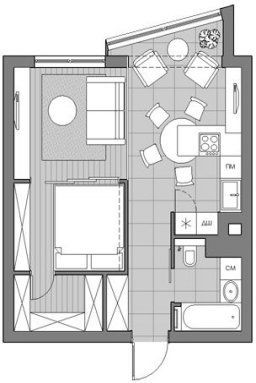door: (130, 341, 169, 382), (32, 274, 55, 302), (175, 186, 199, 212)
room: (133, 42, 232, 211), (14, 67, 129, 177), (15, 181, 123, 268), (14, 274, 126, 329), (178, 240, 240, 329)
wall: (1, 54, 19, 344), (240, 54, 256, 345), (5, 328, 134, 346), (169, 327, 256, 343), (220, 5, 236, 67), (122, 178, 130, 276), (55, 269, 130, 277), (3, 53, 35, 68), (100, 274, 108, 330), (175, 233, 222, 242), (104, 53, 130, 69), (170, 211, 177, 270), (11, 176, 30, 186), (13, 267, 32, 277)
window: (108, 15, 206, 36), (35, 53, 108, 72)
